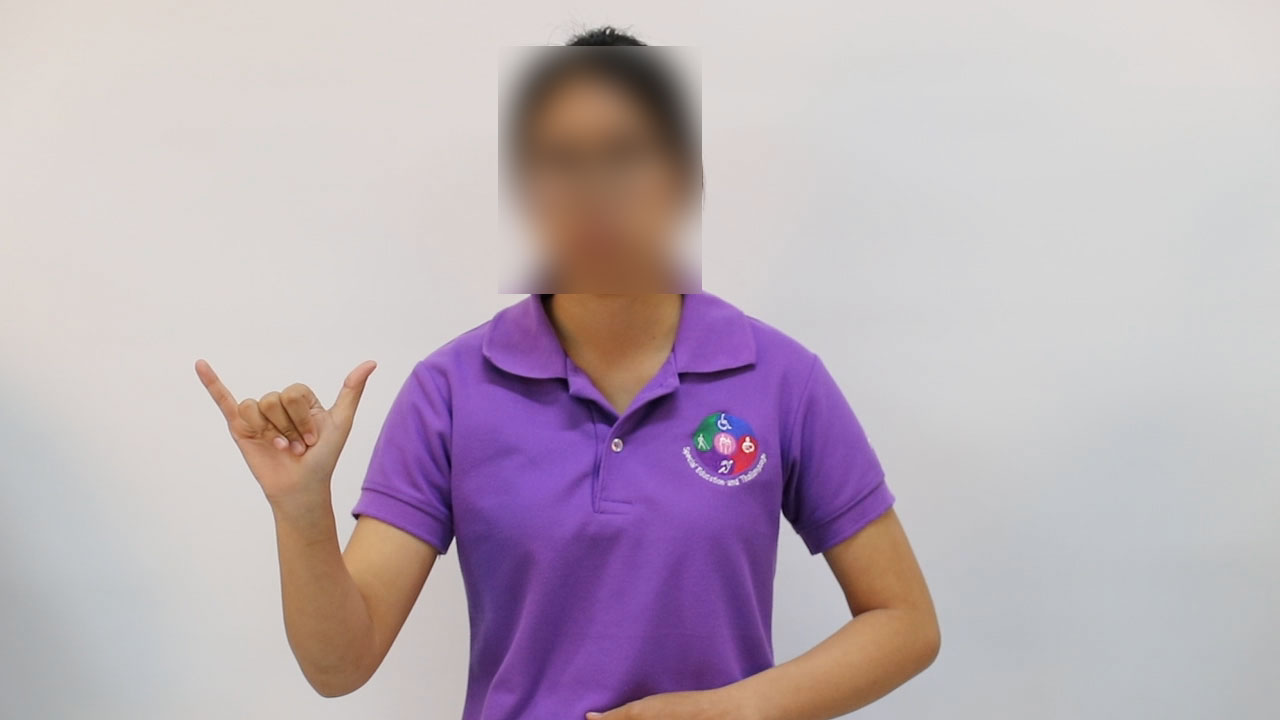yor: (189, 353, 397, 505)
